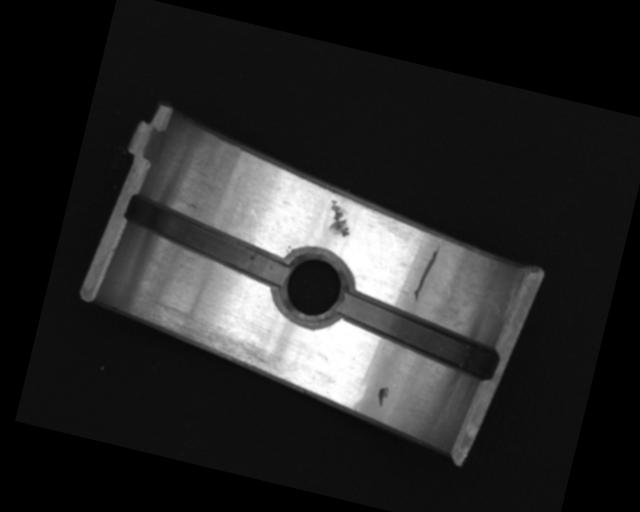bruise: (321, 198, 357, 239), (375, 384, 391, 409)
gap: (116, 194, 297, 289), (332, 291, 504, 380)
hole: (268, 245, 357, 336)
nick: (412, 240, 441, 305)
scratch: (145, 301, 297, 380)
